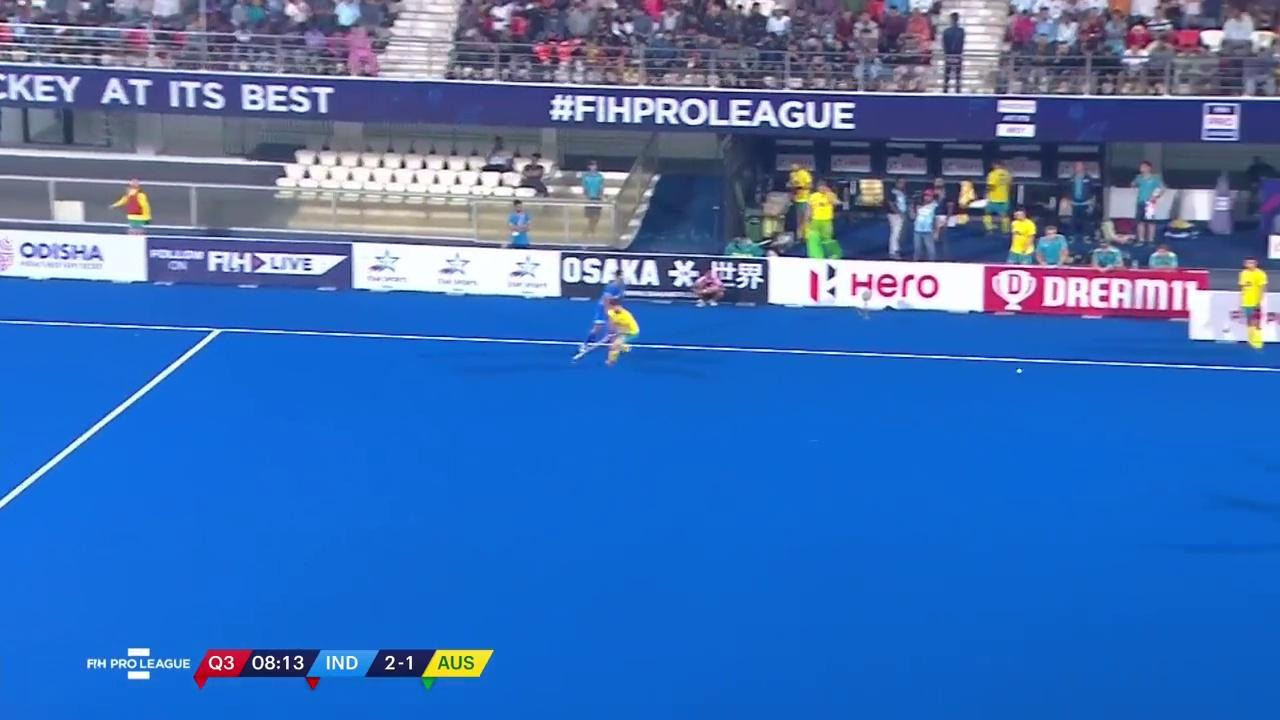ball: (1013, 366, 1024, 376)
